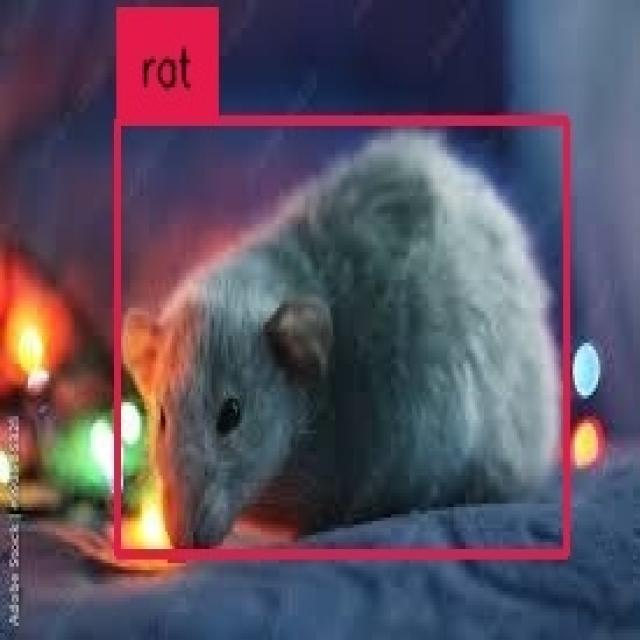rat: (119, 122, 566, 552)
